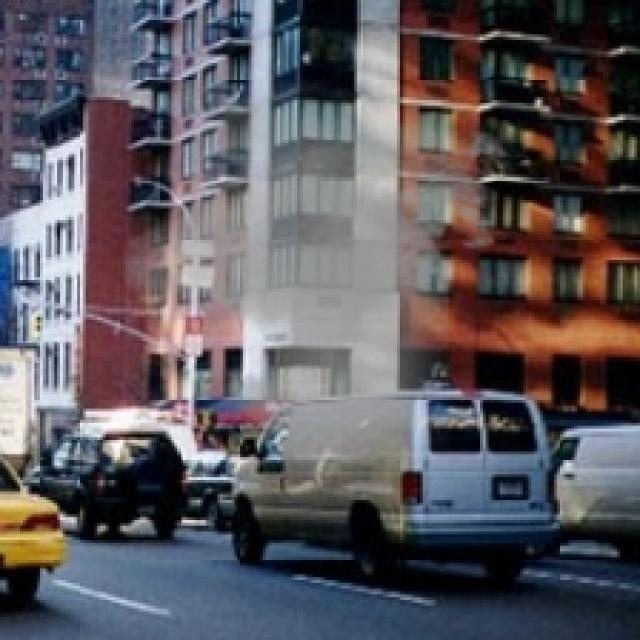Smoke: (106, 80, 523, 454)
